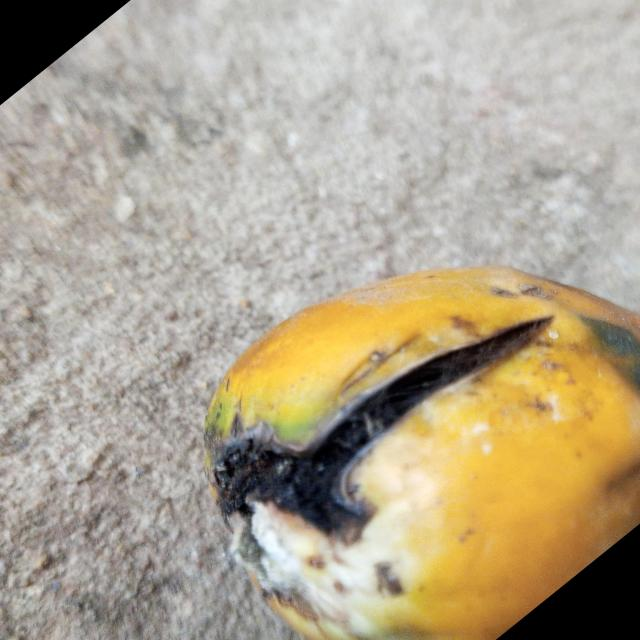damaged: (203, 266, 640, 640)
